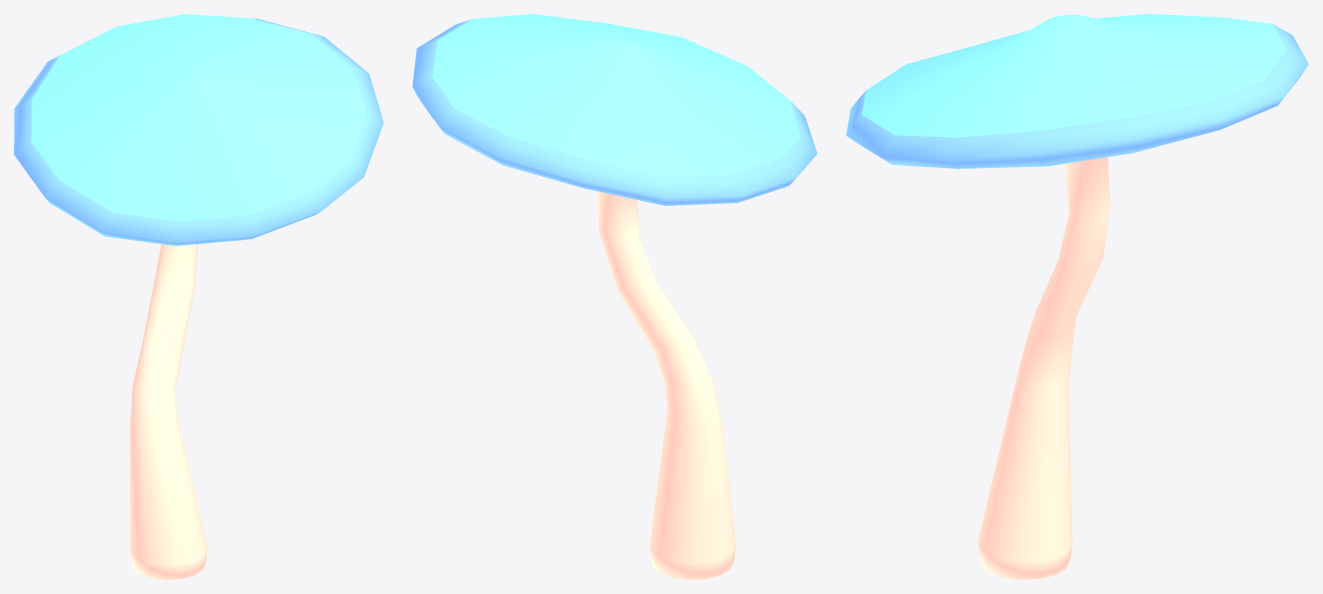
The model's file is cogumelo_G3.fbx.
The picture shows the model from 3 angles, left to right: view 1: azimuth 30°, elevation 25°; view 2: azimuth 150°, elevation 25°; view 3: azimuth 270°, elevation 25°; orthographic projection. The views are drawn at different scales.
Parts seen in each view (by area): view 1: cogu_G3; view 2: cogu_G3; view 3: cogu_G3.
Boxes of the visible parts, left/top/right/bottom form: cogu_G3: left=14, top=14, right=383, bottom=579; cogu_G3: left=412, top=14, right=817, bottom=579; cogu_G3: left=846, top=14, right=1308, bottom=579.
Bounding box in the file's own units: 1379 × 1434 × 1951.
